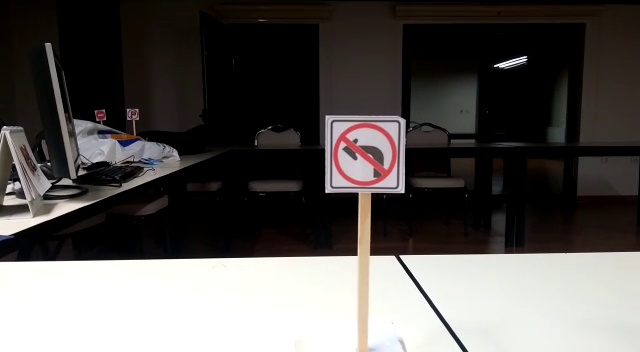sola_donulmez: (331, 123, 403, 189)
